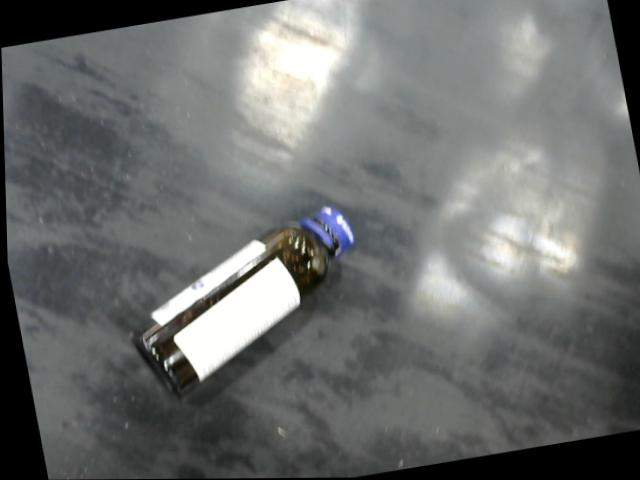glass: (125, 201, 359, 400)
